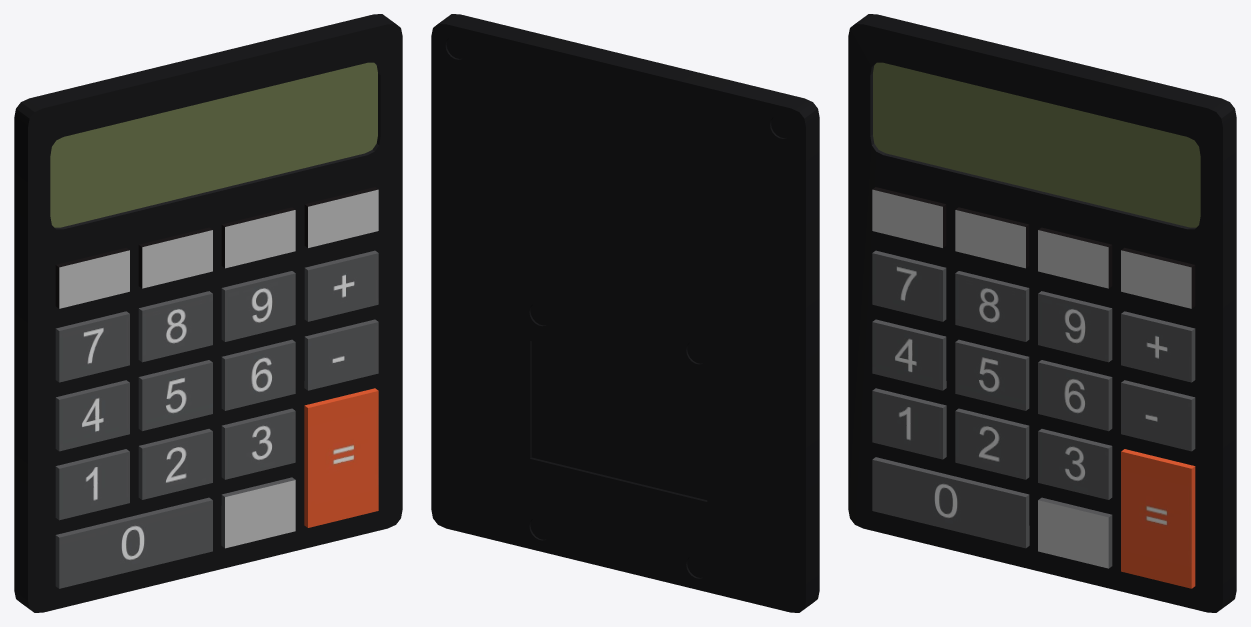
Rendered from Calculator.FBX.
3 views of the same model, side by side, from view 1: azimuth 30°, elevation 25°; view 2: azimuth 150°, elevation 25°; view 3: azimuth 330°, elevation 25° (orthographic).
Parts seen in each view (by area): view 1: Calculator; view 2: Calculator; view 3: Calculator.
Part boxes in pixels (<box>): Calculator: <box>14,14,402,612</box>; Calculator: <box>431,14,819,612</box>; Calculator: <box>848,14,1236,612</box>.
Size of the model in its own units: 875 by 1125 by 70.05.
